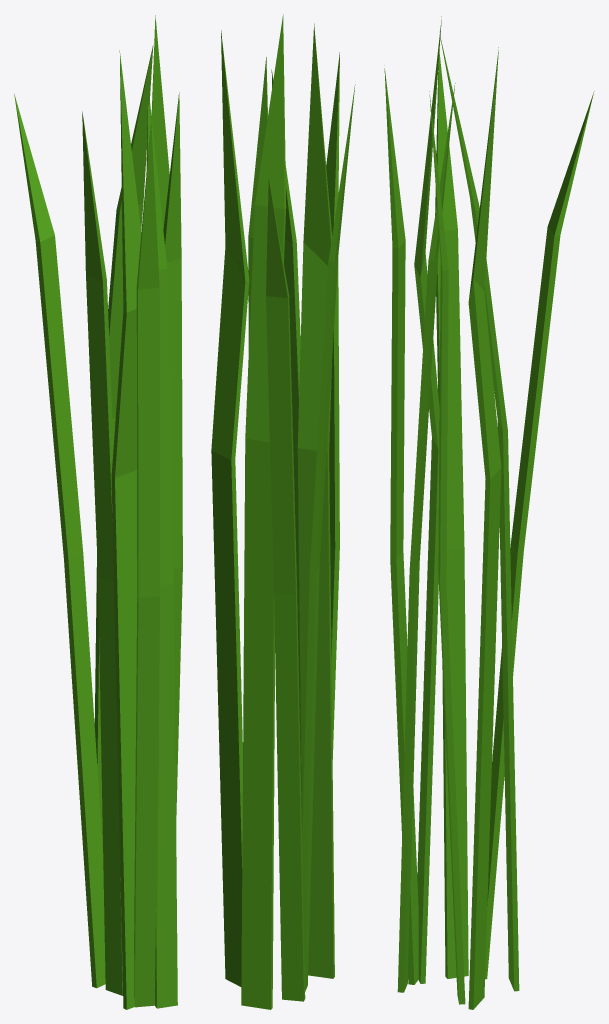
Rendered from Grass_d_02.fbx.
3 renders of one model, left to right at view 1: azimuth 30°, elevation 25°; view 2: azimuth 150°, elevation 25°; view 3: azimuth 270°, elevation 25°, orthographic.
Parts seen in each view (by area): view 1: Grass_h_02_LOD0; view 2: Grass_h_02_LOD0; view 3: Grass_h_02_LOD0.
Part boxes in pixels (x1,y1,x2,y2): Grass_h_02_LOD0: [14, 15, 182, 1009]; Grass_h_02_LOD0: [211, 14, 355, 1009]; Grass_h_02_LOD0: [384, 16, 594, 1009].
Bounding box in the file's own units: 3.93 × 6.06 × 30.54.
